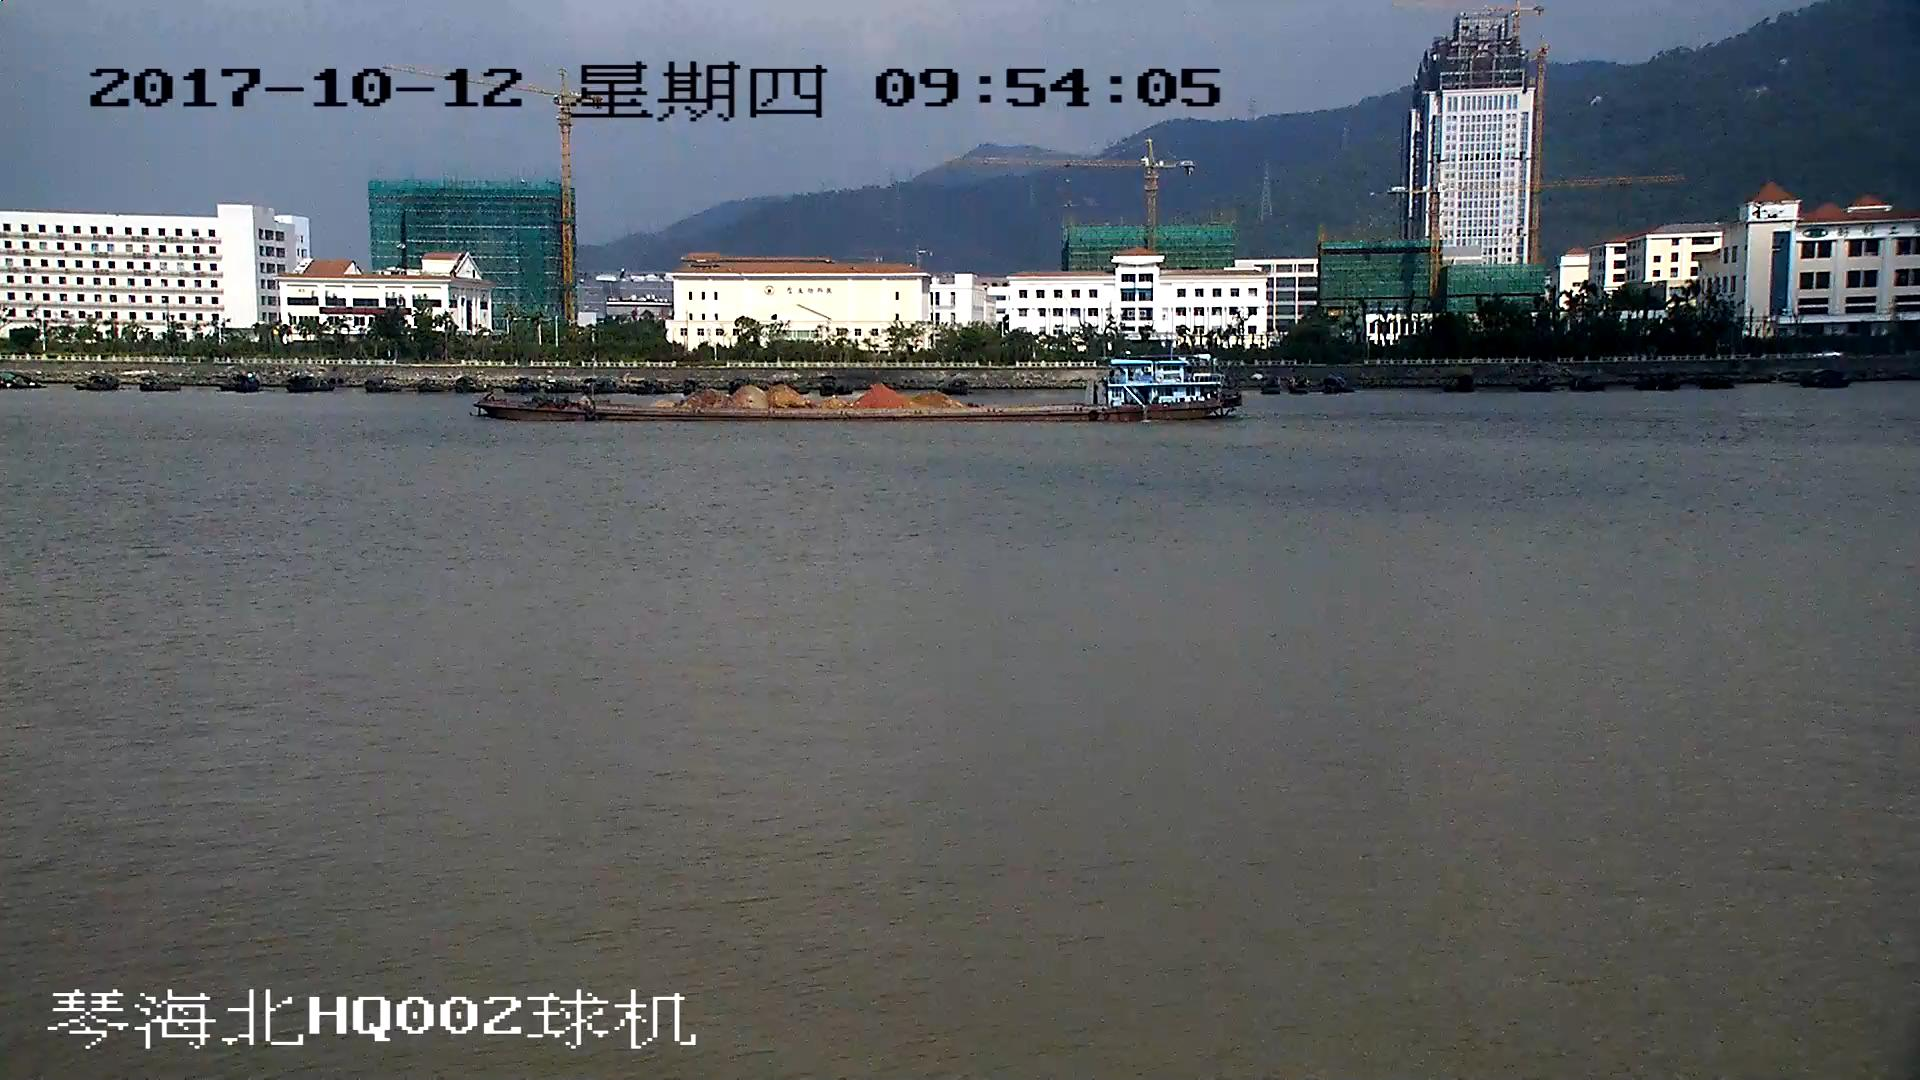ore carrier: (482, 361, 1232, 426)
